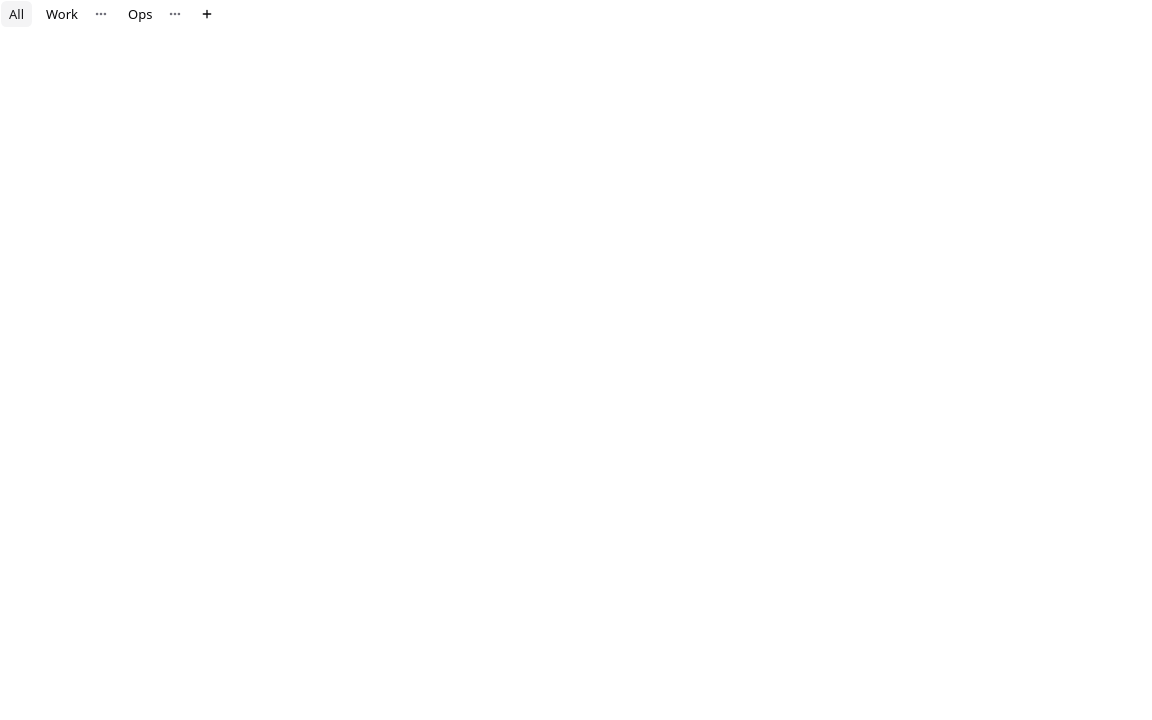
Test: ViewTabs › captures a name from the save dialog
This screenshot has width=1152, height=720.
Click the button named "Save current view" at (207, 14), box top-left (193, 0), bottom-right (221, 28)
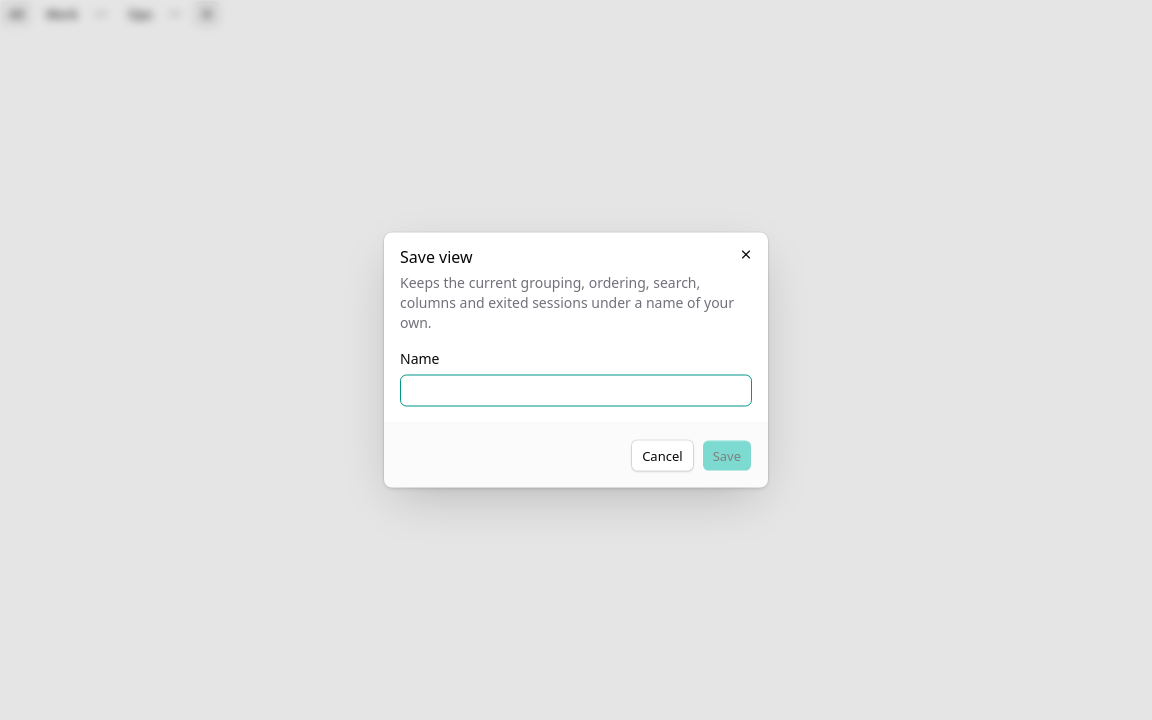
Type "Feature x" into the field labelled "Name" at (576, 390), box top-left (400, 374), bottom-right (752, 406)
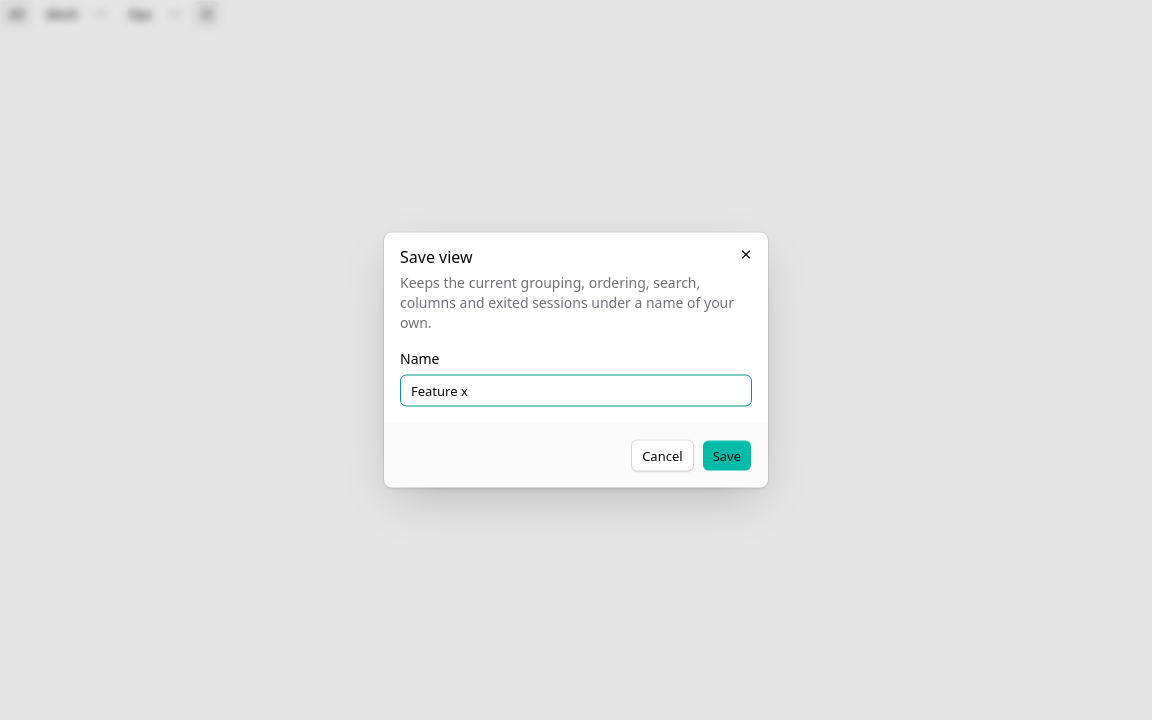
Click the button "Save" at (727, 456), box top-left (702, 440), bottom-right (752, 472)
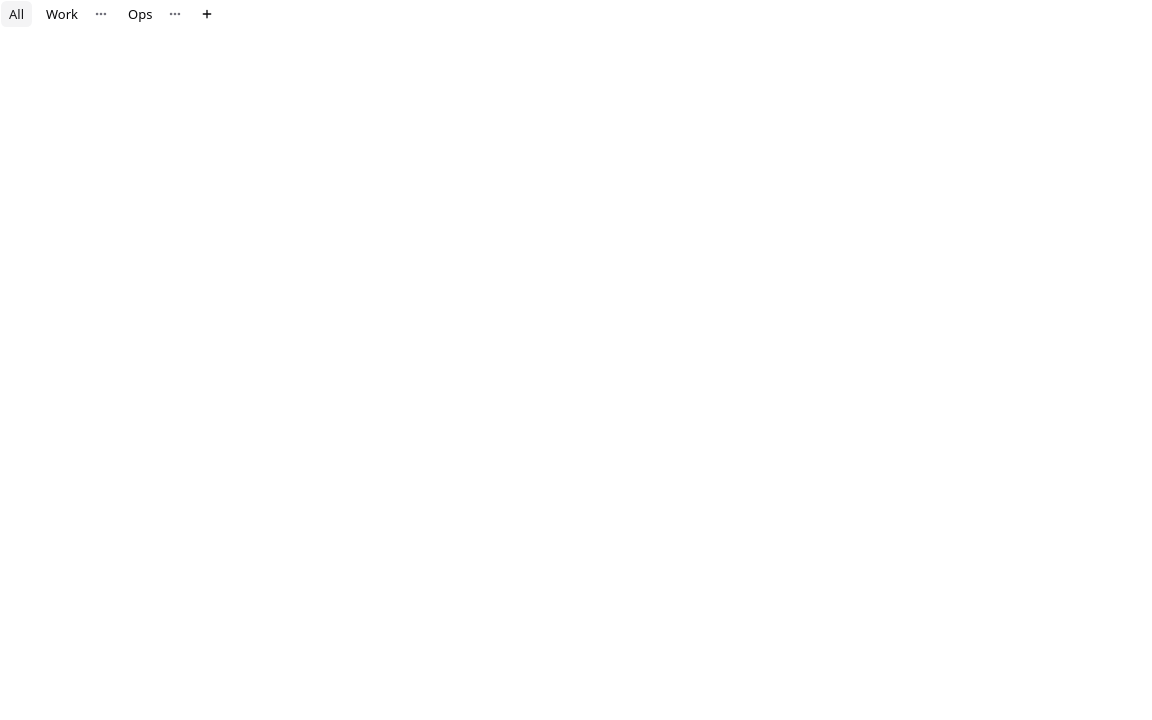
Expected: the dialog is gone
